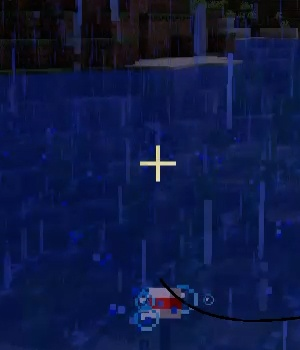up: (140, 279, 188, 332)
